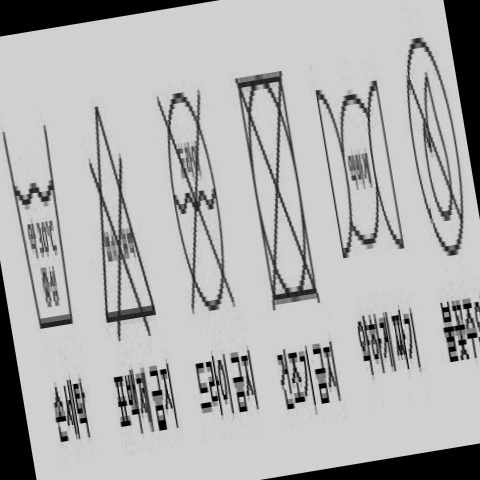30C: (0, 108, 95, 344)
DN_dry_clean: (149, 78, 250, 324)
DN_tumble_dry: (226, 64, 339, 323)
non_chlorine_bleach: (64, 99, 172, 340)
wring: (311, 72, 416, 261)
